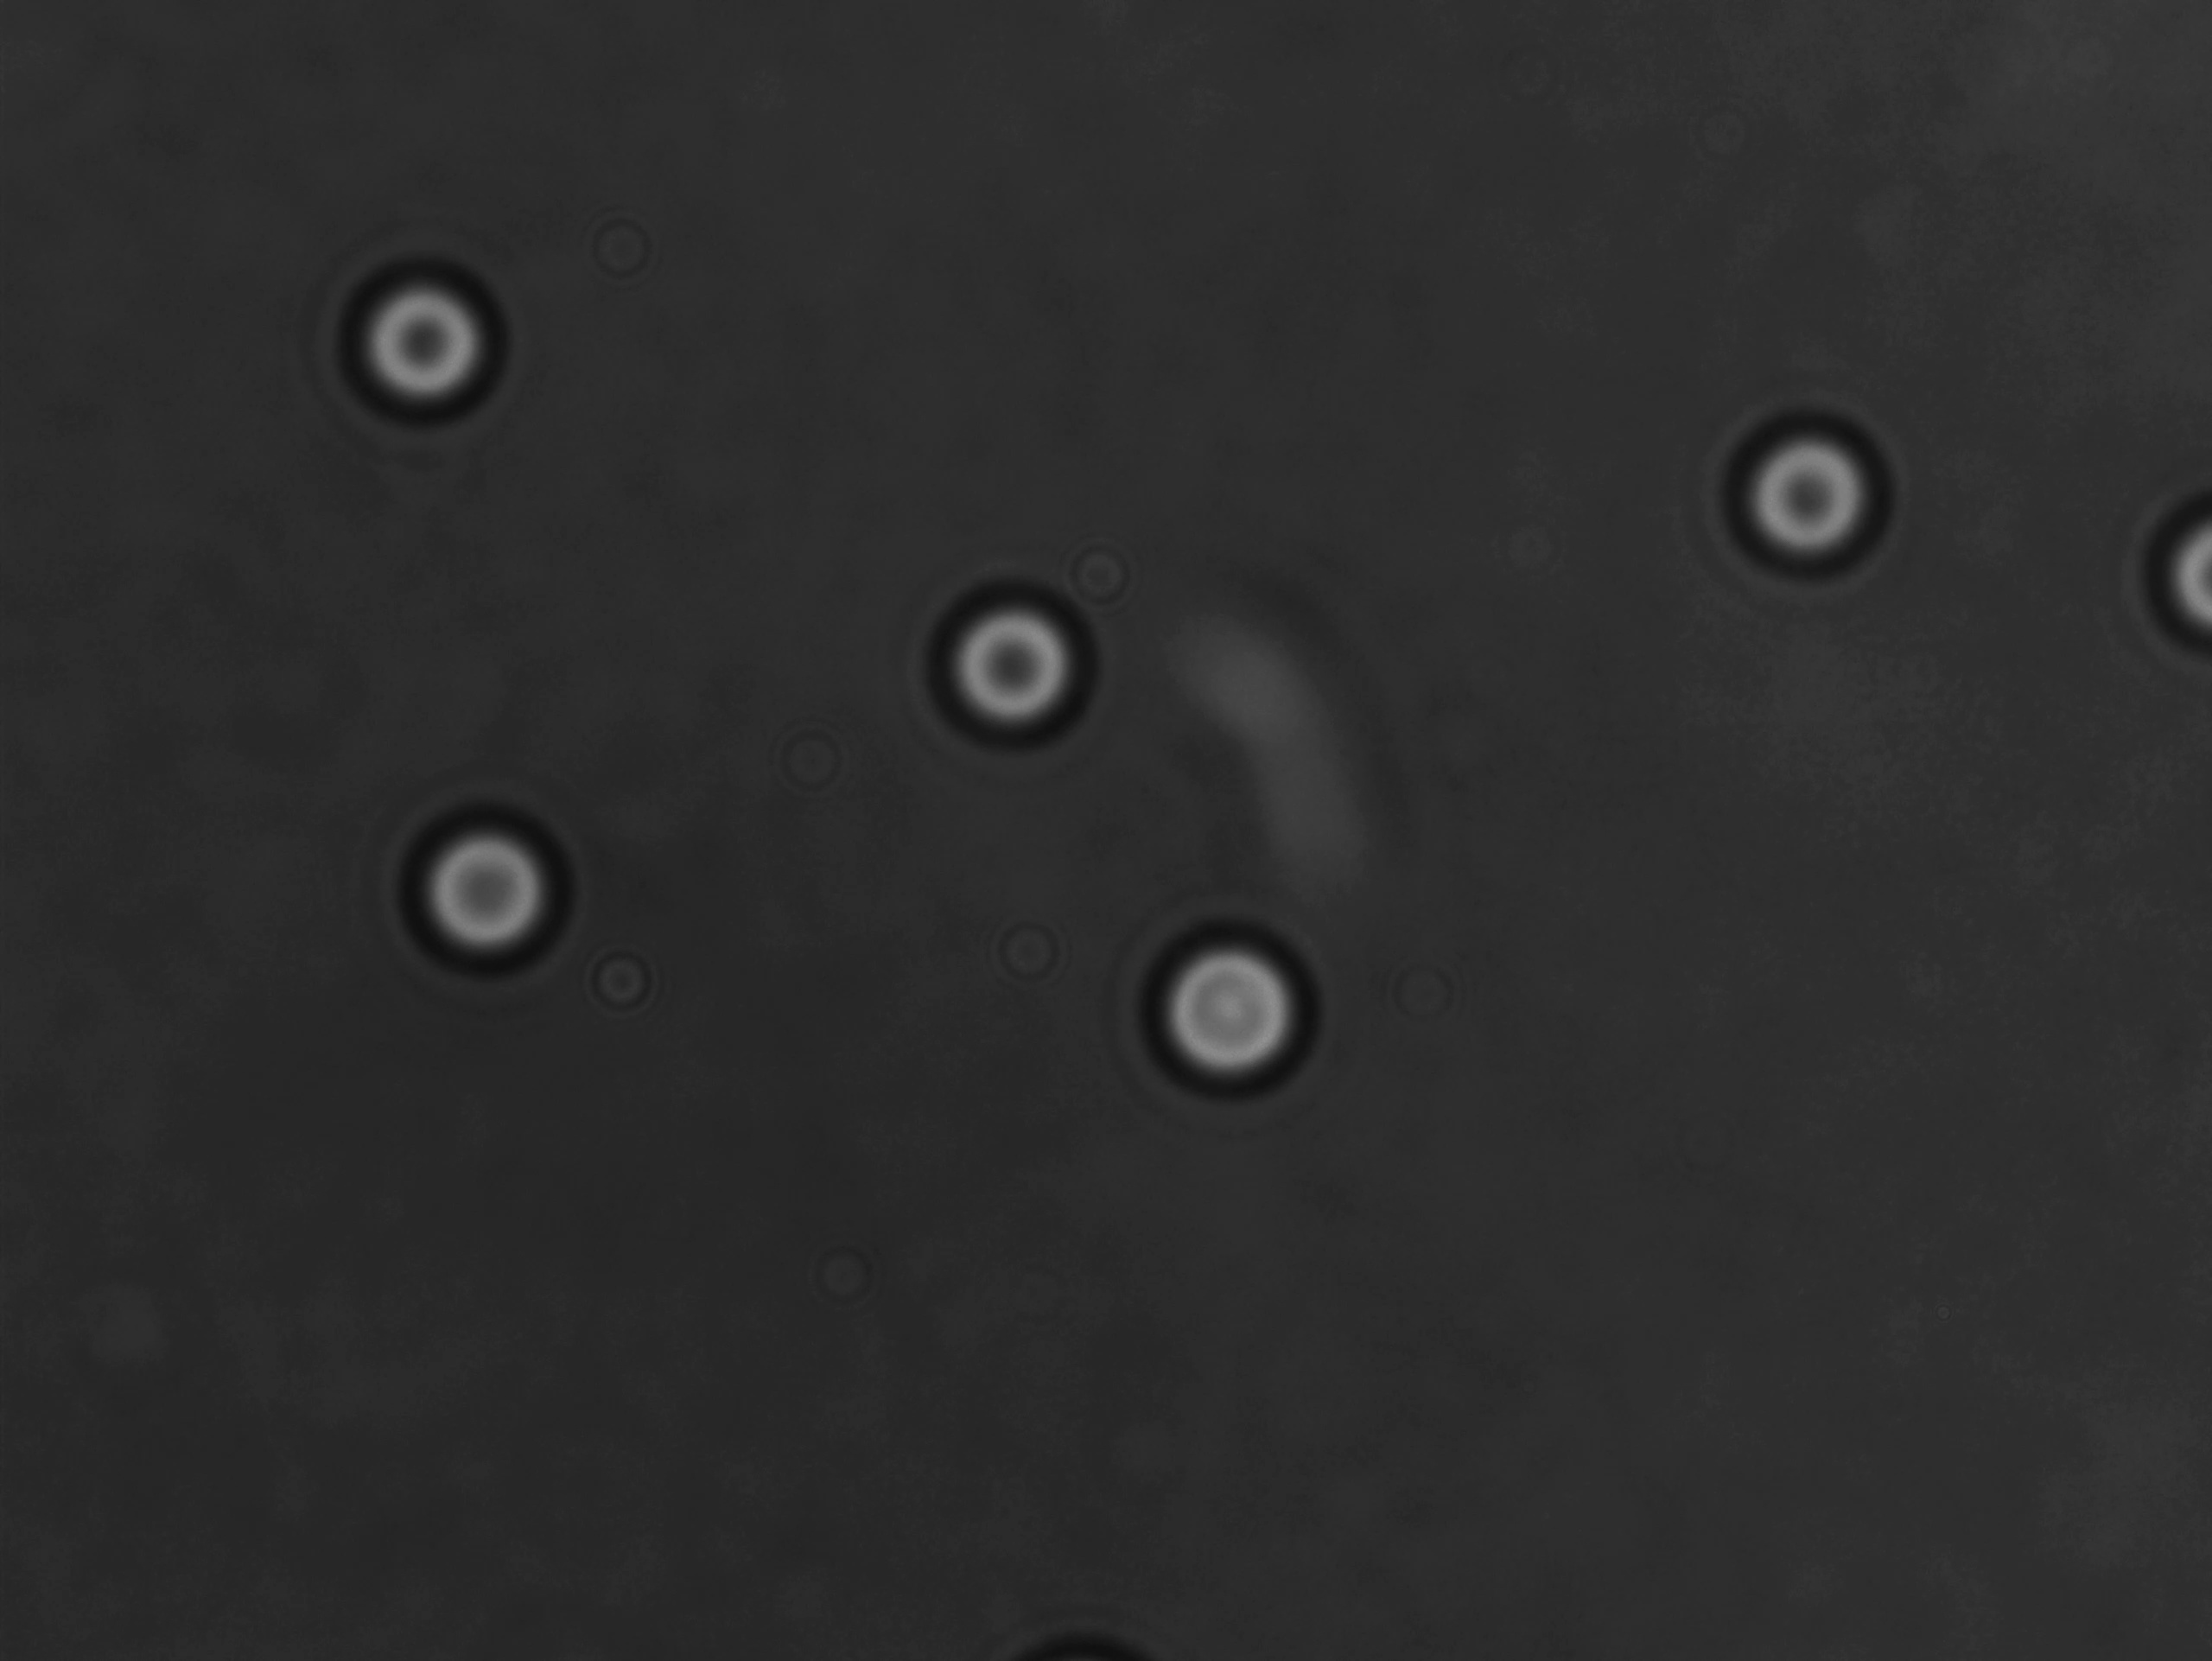depth:80: (1118, 883, 1350, 1113), (373, 775, 609, 998), (893, 544, 1118, 776), (1704, 384, 1917, 602), (324, 239, 530, 436)
